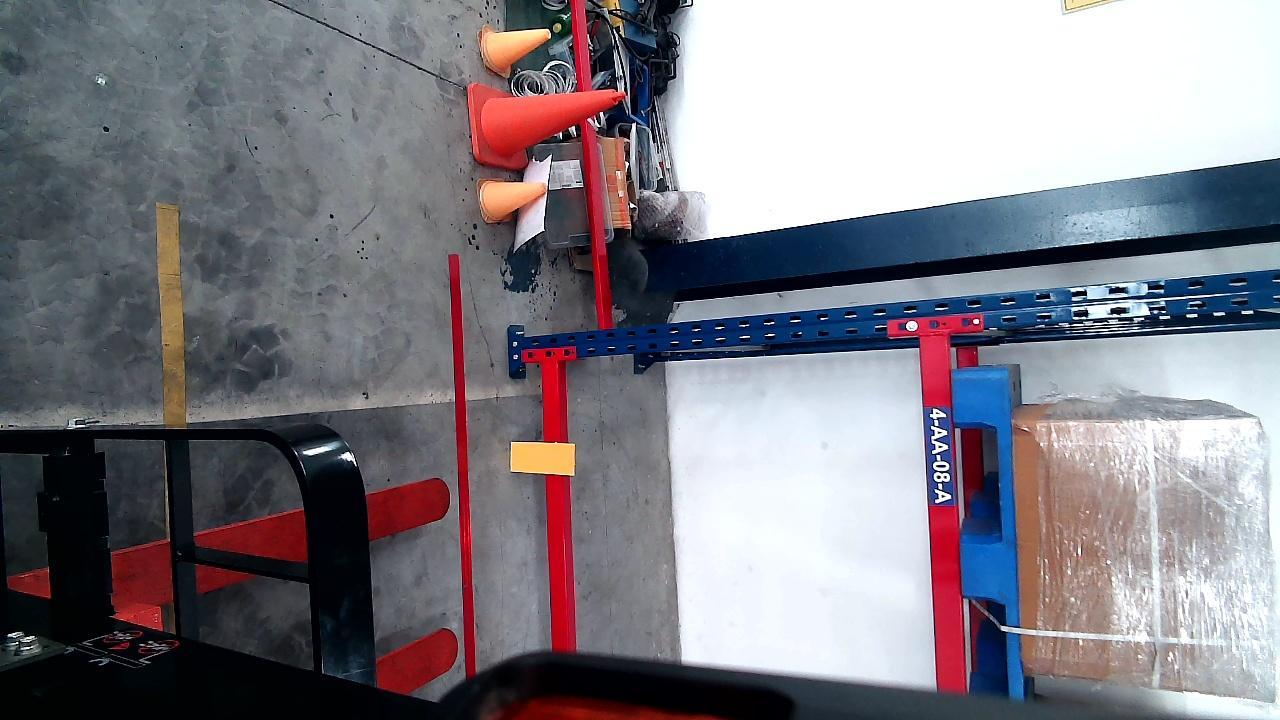red_line: (450, 254, 477, 675)
yellow_line: (156, 193, 187, 422)
